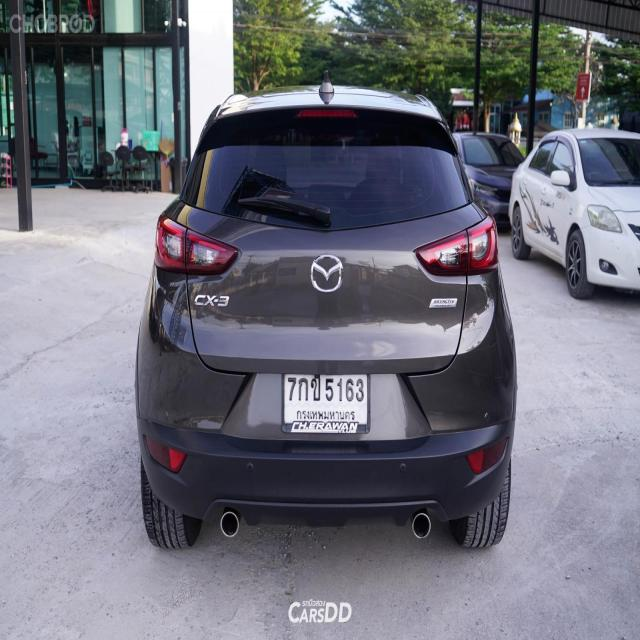license_plate: (278, 369, 371, 443)
